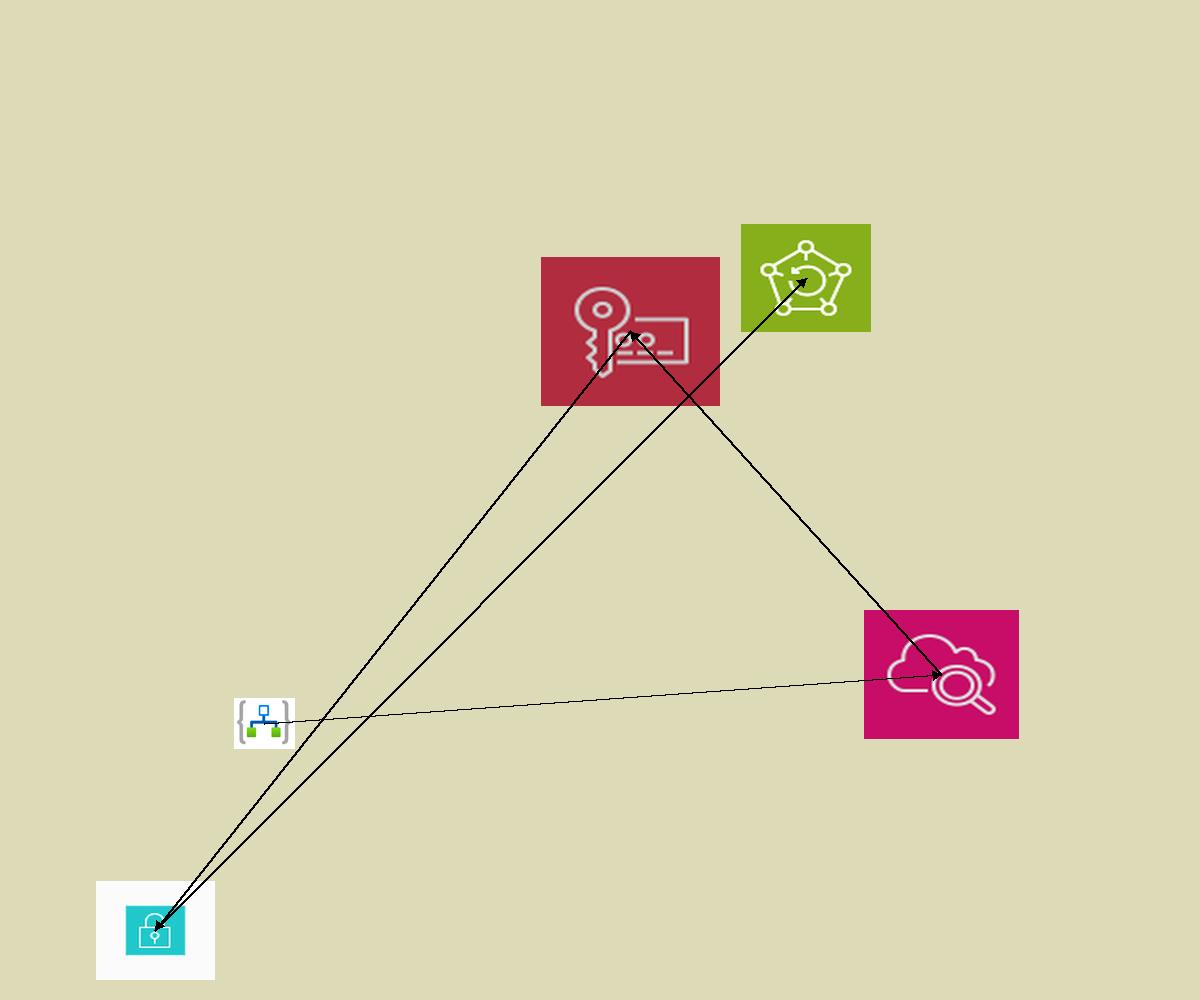AWS-Backup: (741, 224, 871, 332)
AWS-CloudWatch: (864, 610, 1019, 739)
AWS-Key-Management-Service: (541, 257, 720, 406)
AWS-Private-subnet: (96, 881, 215, 980)
Azure_integration-204-Logic-Apps: (234, 698, 295, 749)
